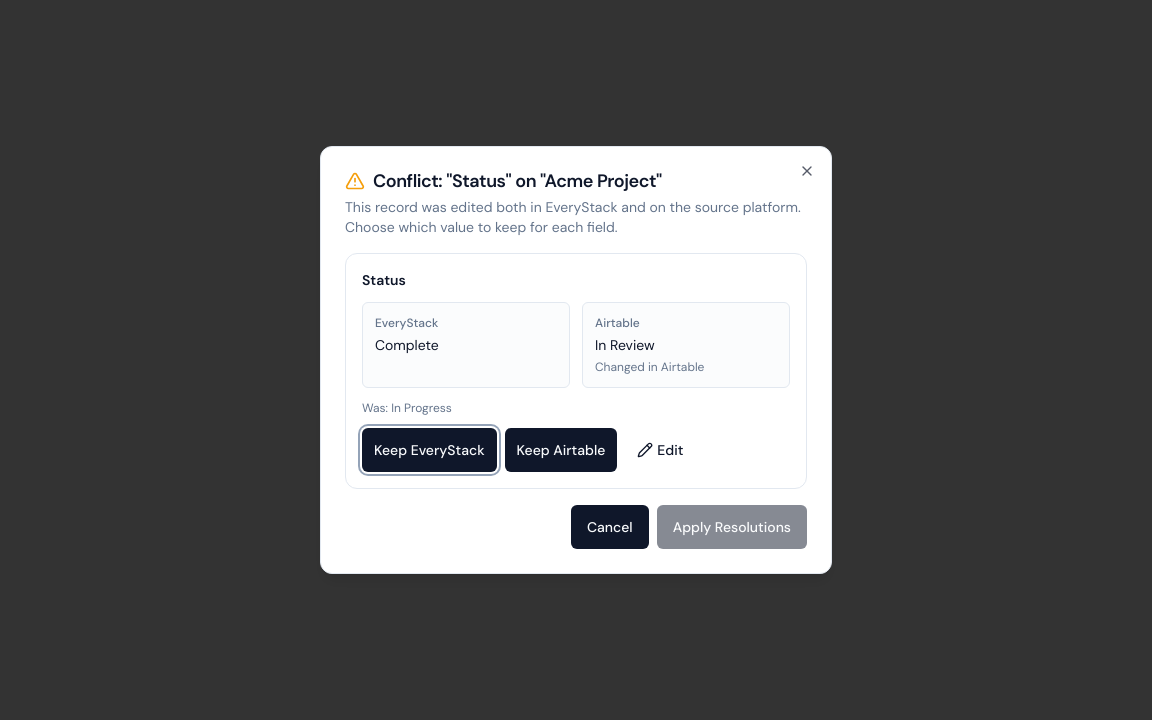
Test case: ConflictResolutionModal › enables Apply after resolving the conflict
The width and height of the screenshot is (1152, 720).
What coordinates should you click on to do the following:
click the button with test id "conflict-keep-local-field-1"
I would click on:
 (429, 450)
Its box is [362,428,496,472].
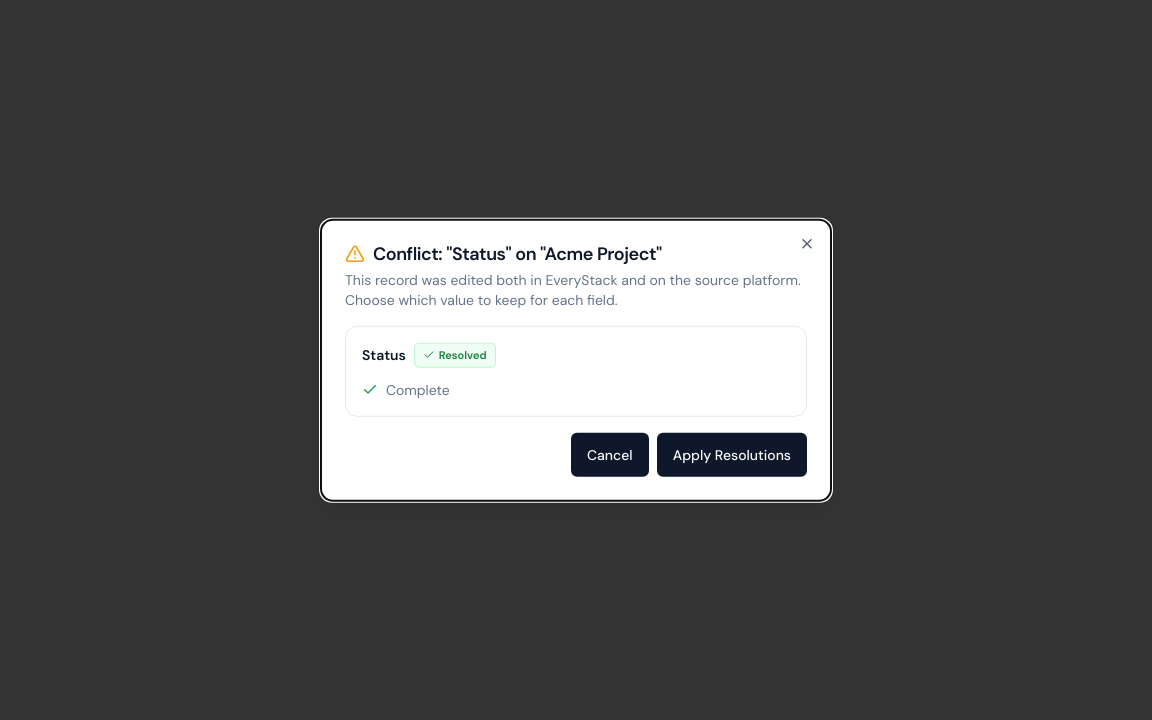
Expected: the button with test id "conflict-apply-btn" is enabled, [657,432,807,476]
